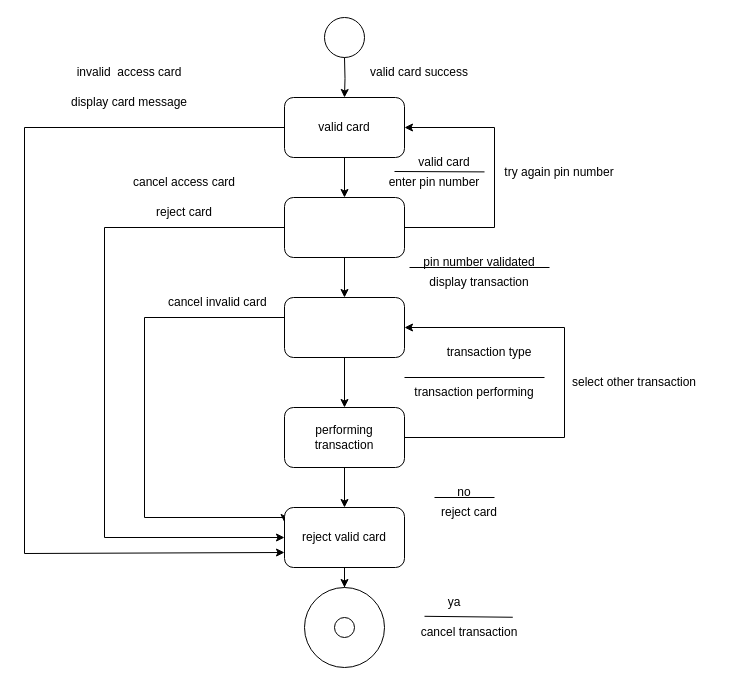
Image size: 752x685. Some labels were removed from this diagram. The shapes that lost their labels are listed below. From the top down, each one's centre as x and y in pixels, then its label:
At (344,227): "valid PIN number".
At (344,327): "choosing transaction".
